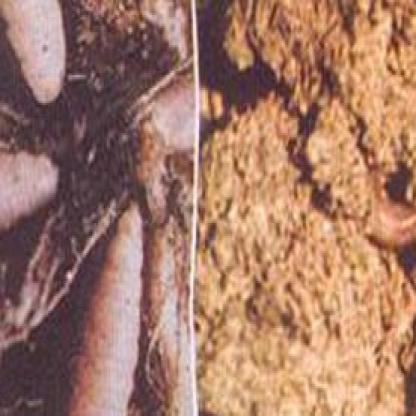whorl-maggot: (66, 205, 146, 415), (0, 4, 68, 100), (2, 147, 60, 236)
